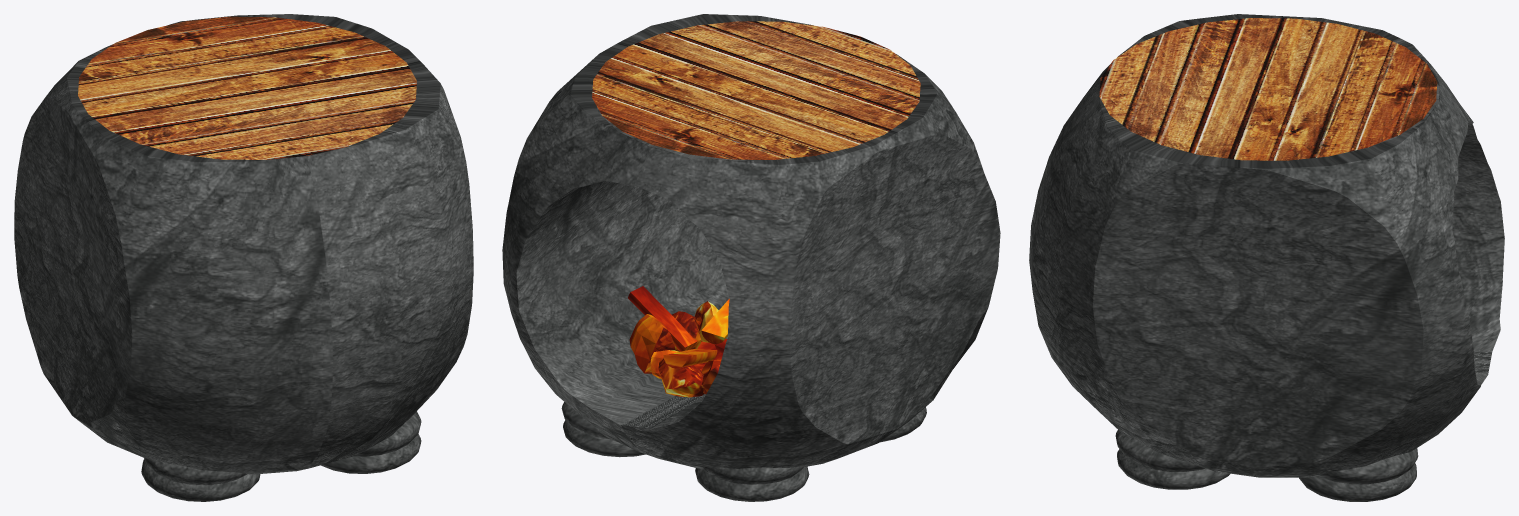
File: HornoPicapiedras.obj
The picture shows the model from 3 angles, left to right: view 1: azimuth 30°, elevation 25°; view 2: azimuth 150°, elevation 25°; view 3: azimuth 270°, elevation 25°; orthographic projection. The views are drawn at different scales.
Visible parts, largest first — view 1: pDisc3; view 2: pDisc3; view 3: pDisc3.
Boxes of the visible parts, bbox=[...] form: pDisc3: bbox=[14, 14, 473, 501]; pDisc3: bbox=[502, 14, 1000, 501]; pDisc3: bbox=[1029, 14, 1504, 501].
Size of the model in its own units: 33.65 by 30.89 by 37.84.
Materials: 3 (3 with a texture image).
